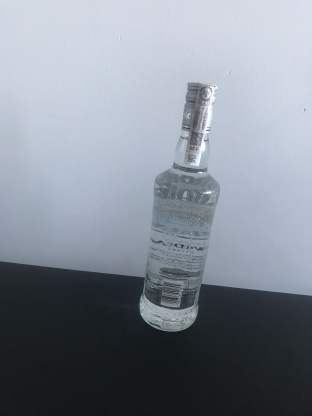nakretka: (179, 77, 219, 136)
